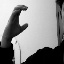c: (7, 4, 29, 36)
